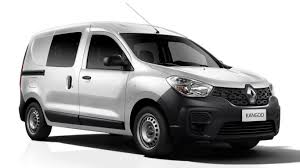car: (21, 22, 280, 157)
